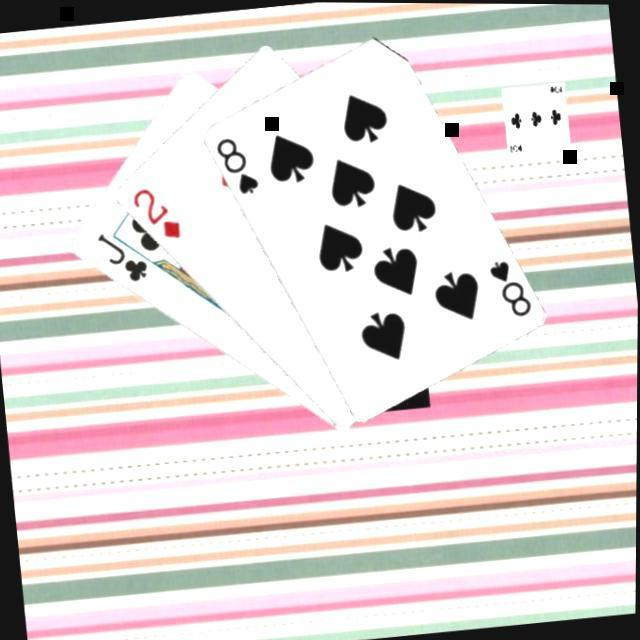2D: (128, 178, 186, 243)
8S: (212, 128, 264, 198), (485, 250, 536, 318)
JC: (93, 223, 154, 286)
